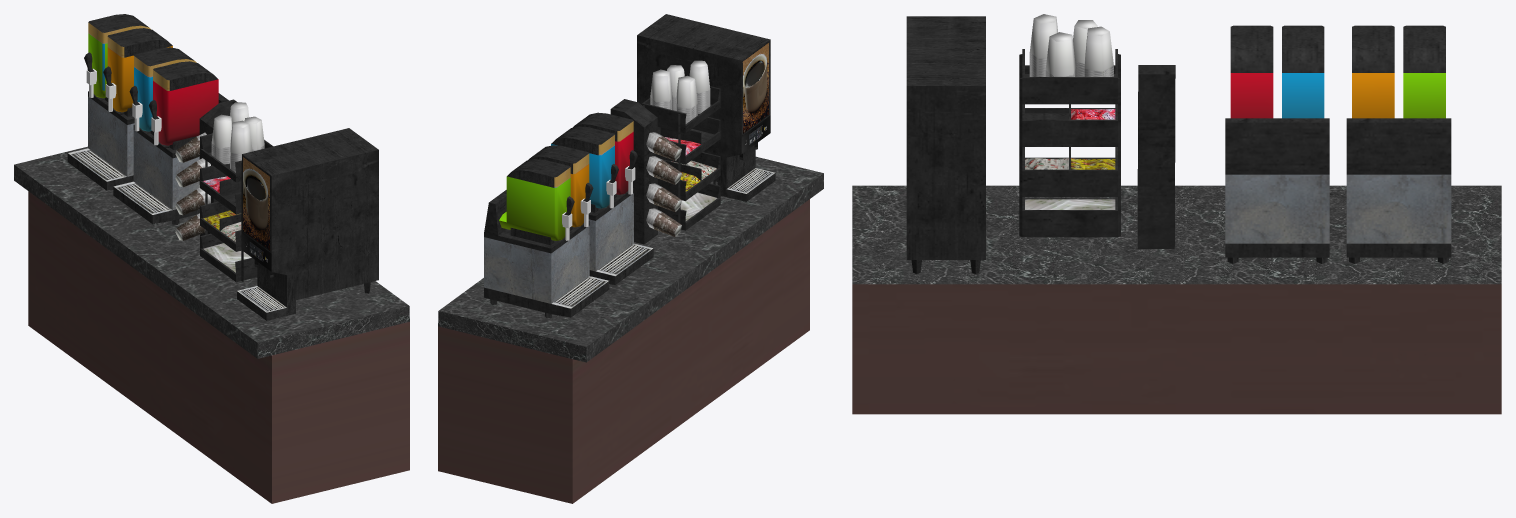
The model's file is coffee.glb.
3 views of the same model, side by side, from view 1: azimuth 30°, elevation 25°; view 2: azimuth 150°, elevation 25°; view 3: azimuth 270°, elevation 25° (orthographic). The views are drawn at different scales.
Visible parts, largest first — view 1: Others_Others_0.001; view 2: Others_Others_0.001; view 3: Others_Others_0.001.
Part boxes in pixels (x1,y1,x2,y2): Others_Others_0.001: [14, 14, 409, 503]; Others_Others_0.001: [438, 14, 823, 503]; Others_Others_0.001: [852, 14, 1501, 414].
Bounding box in the file's own units: 1.09 × 2.16 × 3.01.
5 materials, 5 textured.
